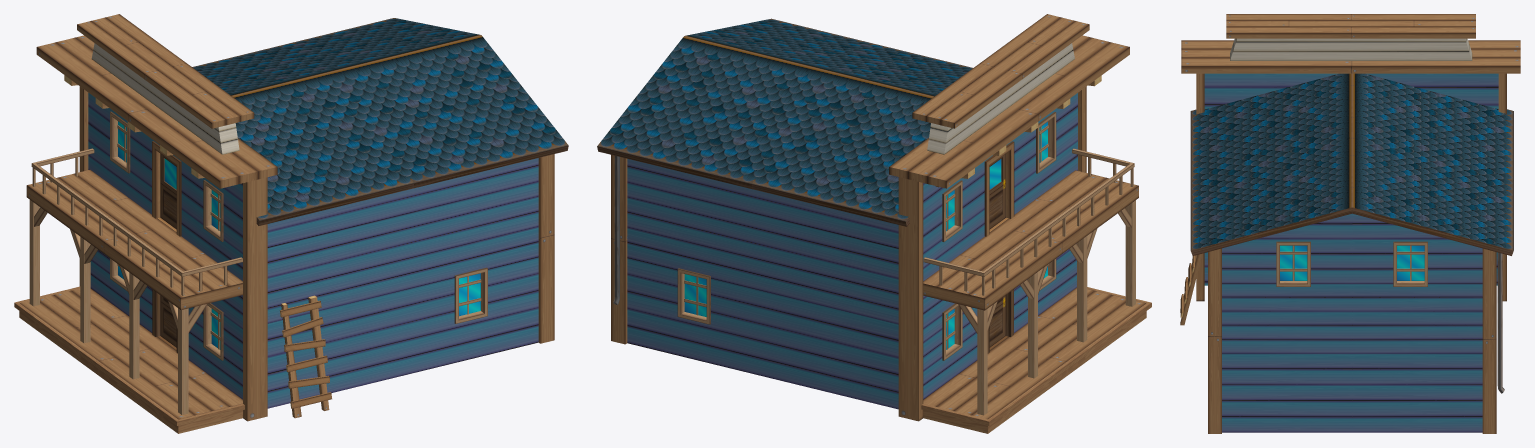
The model's file is House_04.FBX.
3 views of the same model, side by side, from view 1: azimuth 30°, elevation 25°; view 2: azimuth 150°, elevation 25°; view 3: azimuth 270°, elevation 25° (orthographic). The views are drawn at different scales.
Parts seen in each view (by area): view 1: Wall, Roof, Front, Frontage, Ladder, Glass, Door_B, Door_A; view 2: Wall, Roof, Front, Frontage, Glass, Door_B, Door_A; view 3: Wall, Roof, Front, Glass, Ladder.
Boxes of the visible parts, x1=… form: Wall: x1=267, y1=154, x2=554, y2=408; Roof: x1=192, y1=18, x2=568, y2=225; Front: x1=36, y1=14, x2=277, y2=421; Frontage: x1=14, y1=148, x2=244, y2=433; Ladder: x1=280, y1=295, x2=331, y2=418; Glass: x1=118, y1=121, x2=480, y2=349; Door_B: x1=160, y1=154, x2=176, y2=229; Door_A: x1=160, y1=295, x2=176, y2=347; Wall: x1=611, y1=155, x2=898, y2=409; Roof: x1=597, y1=18, x2=972, y2=226; Front: x1=889, y1=14, x2=1129, y2=421; Frontage: x1=921, y1=148, x2=1151, y2=433; Glass: x1=684, y1=122, x2=1047, y2=349; Door_B: x1=989, y1=154, x2=1005, y2=229; Door_A: x1=989, y1=295, x2=1005, y2=347; Wall: x1=1208, y1=213, x2=1504, y2=433; Roof: x1=1190, y1=73, x2=1513, y2=255; Front: x1=1181, y1=14, x2=1520, y2=301; Glass: x1=1280, y1=245, x2=1424, y2=280; Ladder: x1=1180, y1=253, x2=1202, y2=325.
Bounding box in the file's own units: 11.23 × 8.09 × 9.26.
